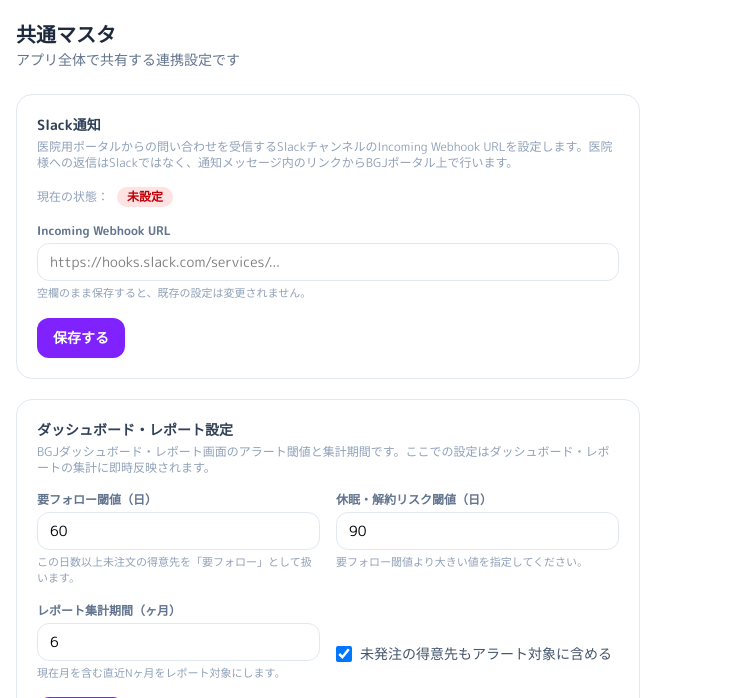
BgjSystemSettingsPage › 入力して保存するとPATCHし、成功トーストを表示して入力欄をクリアする
Expected: the text "未設定" is shown, [117,187,173,207]
Type "https://hooks.slack.com/services/new" into the field with placeholder "https://hooks.slack.com/services/..." at (328, 262), box [37,243,619,281]
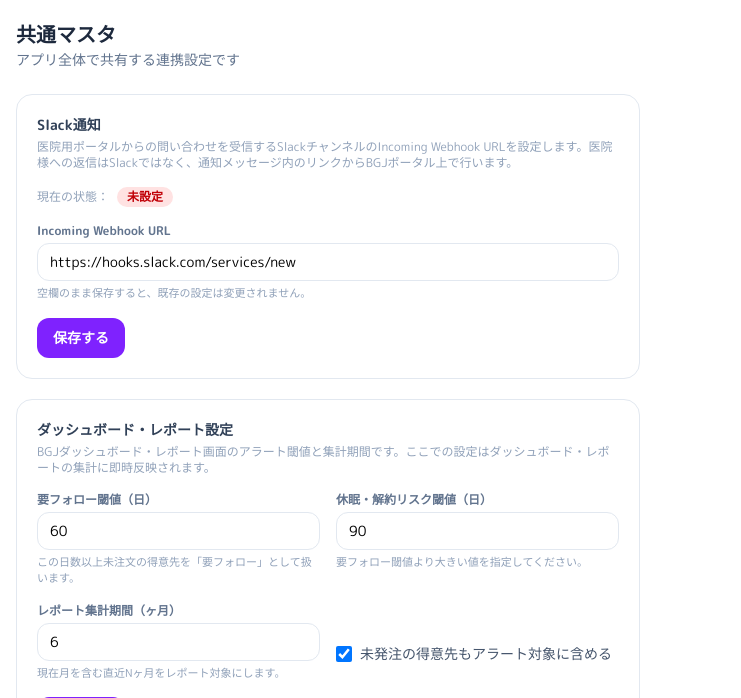
Click the button "保存する" below "空欄のまま保存すると、既存の設定は変更されません。" at (81, 338), box [37,318,125,358]
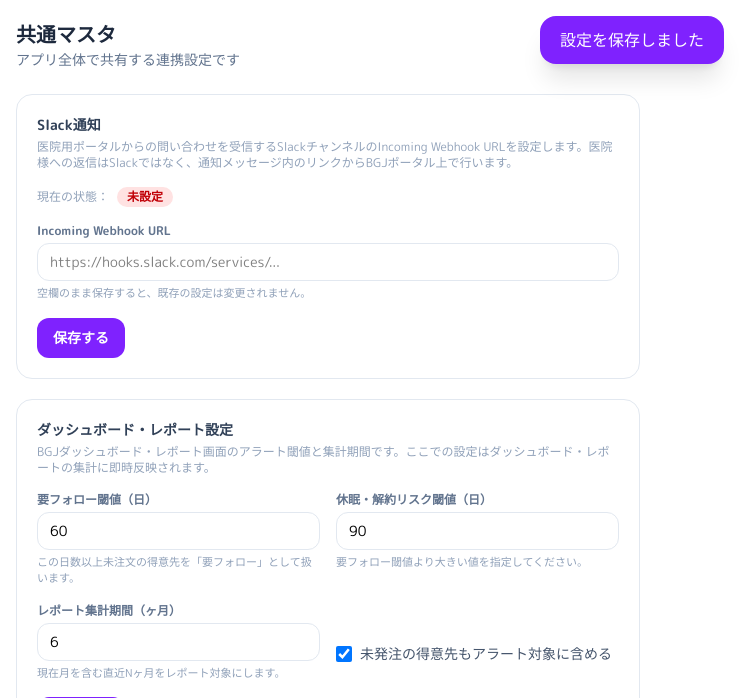
Result: the text "設定を保存しました" is shown at [540,16,724,64]
Result: the field with placeholder "https://hooks.slack.com/services/..." is empty at [37,243,619,281]
